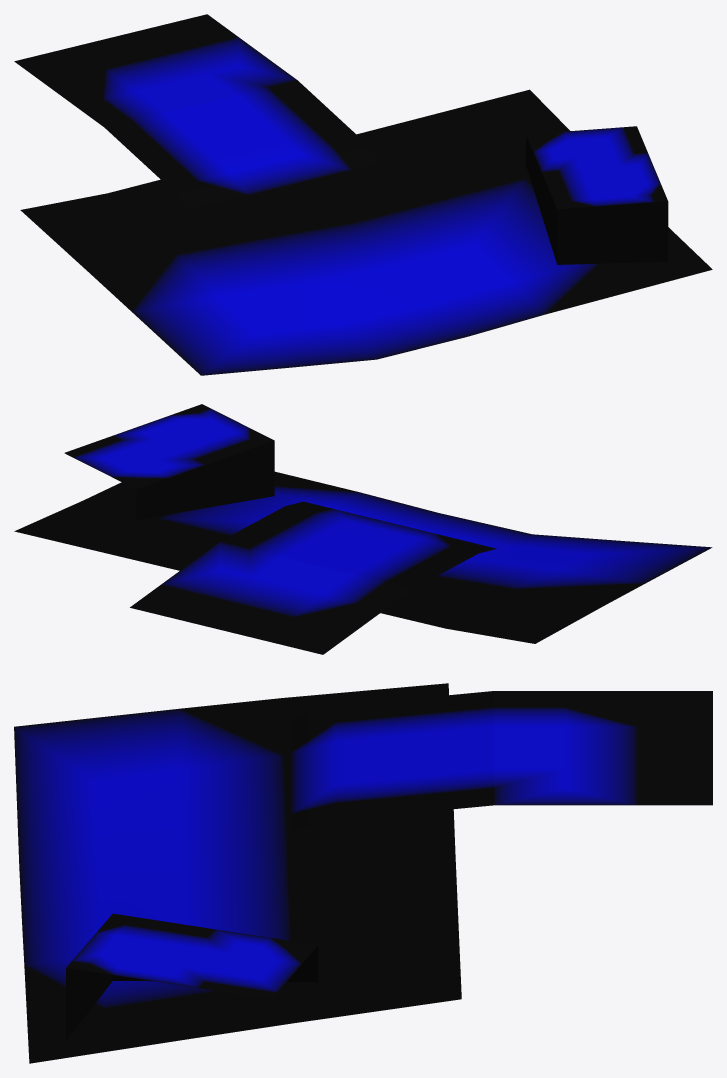
File: V_Ground02.FBX
3 renders of one model, top to bottom at view 1: azimuth 30°, elevation 25°; view 2: azimuth 150°, elevation 25°; view 3: azimuth 270°, elevation 25°, orthographic. The views are drawn at different scales.
Visible parts, largest first — view 1: ground all; view 2: ground all; view 3: ground all.
Boxes of the visible parts, box(x1,y1,x2,y2) form: ground all: box(14, 14, 712, 375); ground all: box(14, 404, 712, 654); ground all: box(14, 683, 712, 1063).
Bounding box in the file's own units: 5575 × 1059 × 5118.
